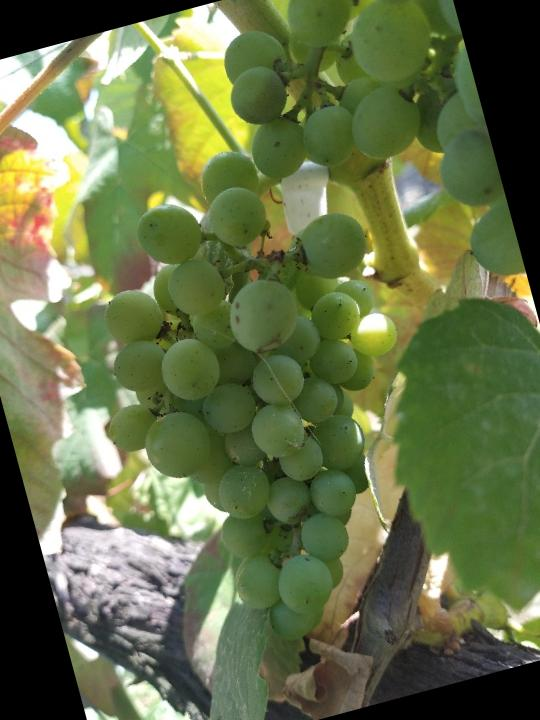grape: (43, 120, 466, 677)
